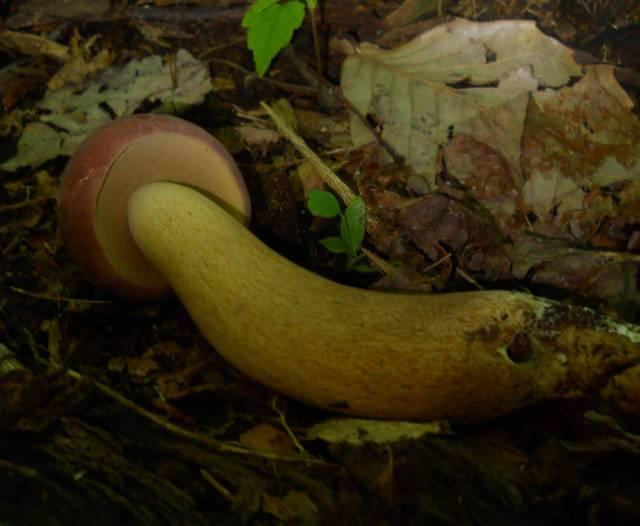poisonous_mushroom: (35, 85, 639, 424)
